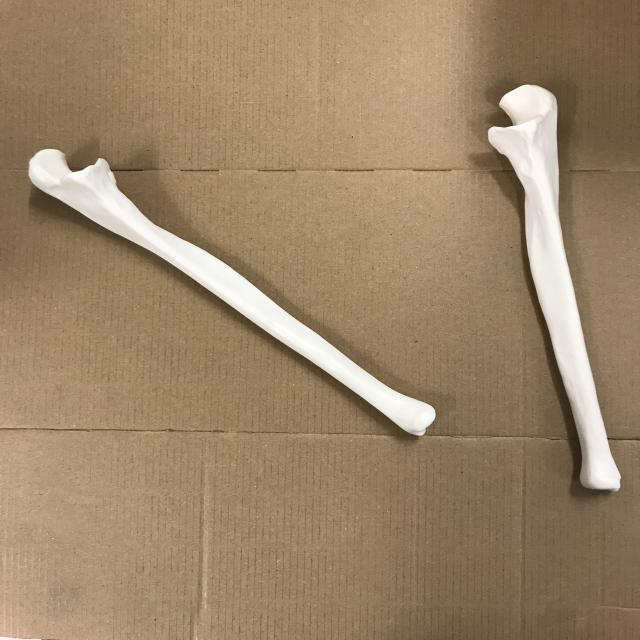bone: (28, 146, 442, 448), (486, 82, 628, 496)
